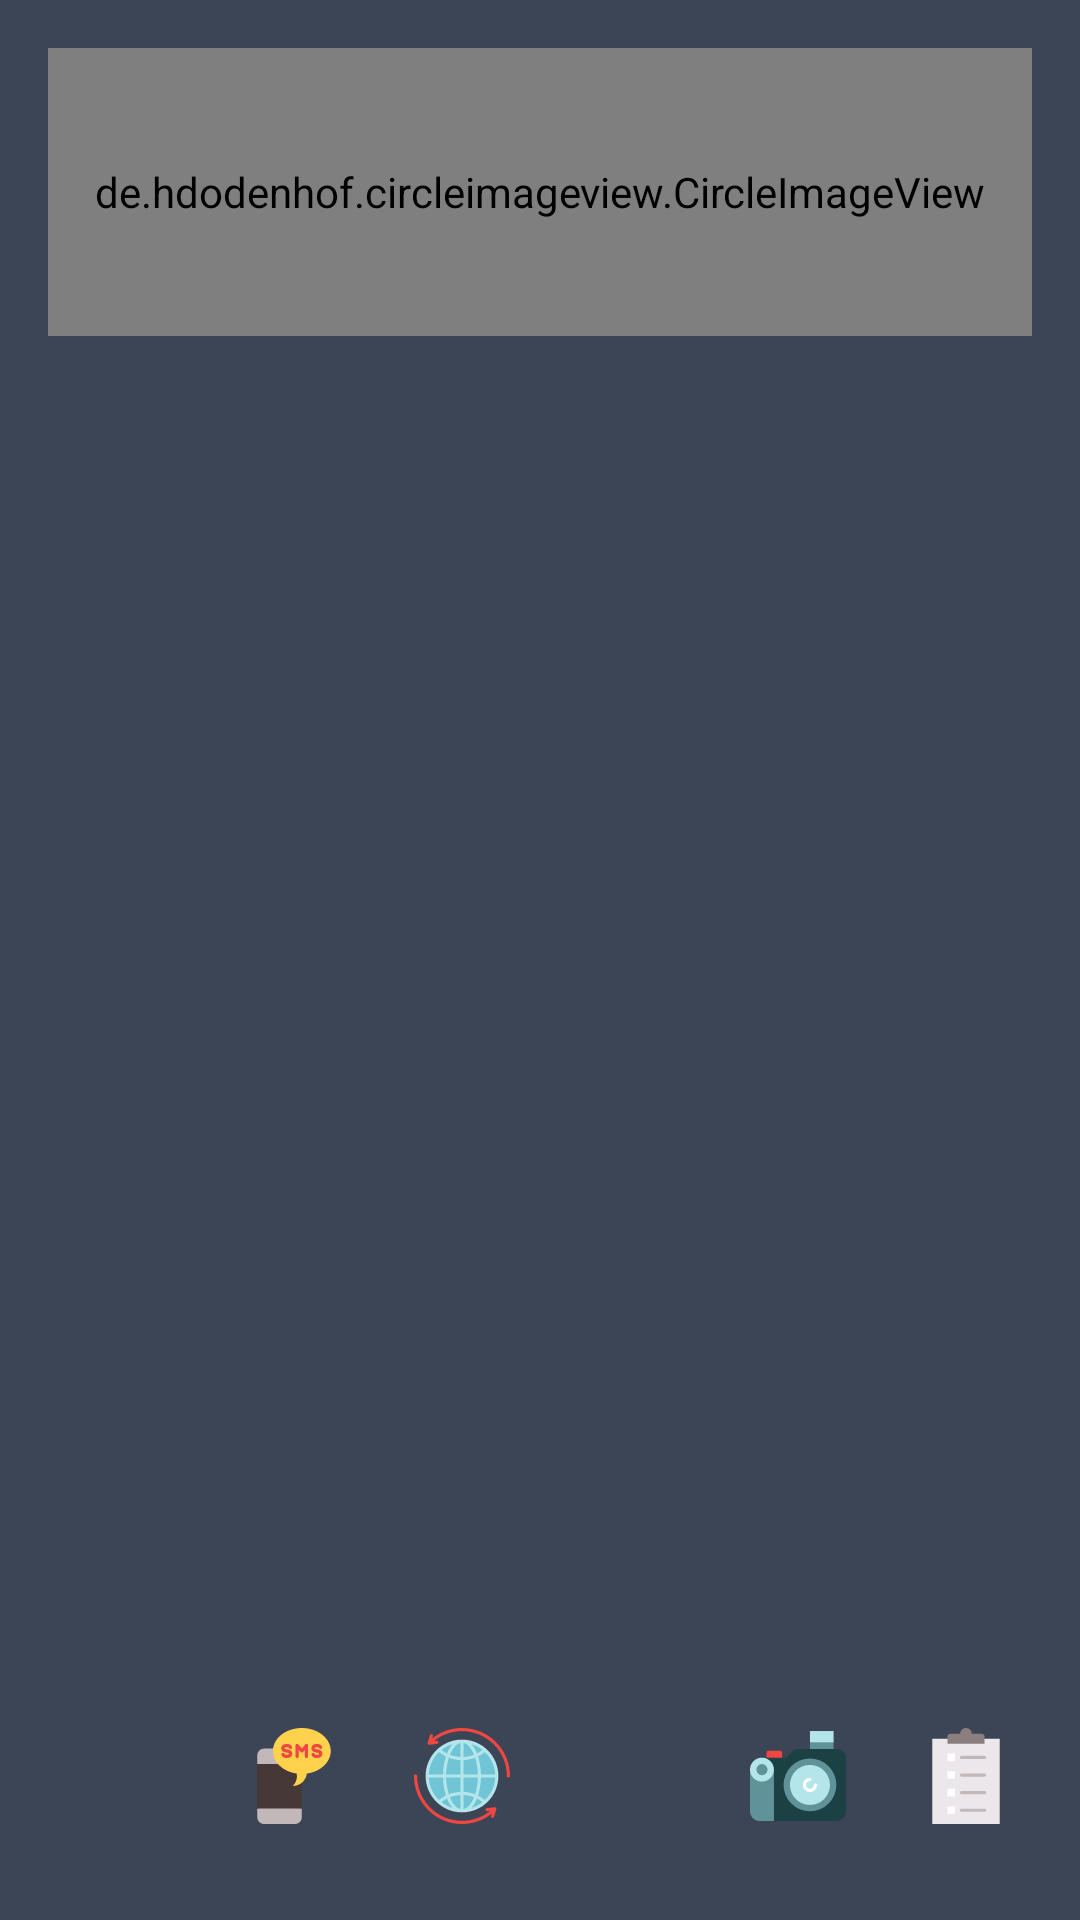

Named icons in this screenshot (1080x1920) and their centers, point (x, y):
padnote: point (966, 1776)
photo: point (798, 1776)
website: point (462, 1776)
